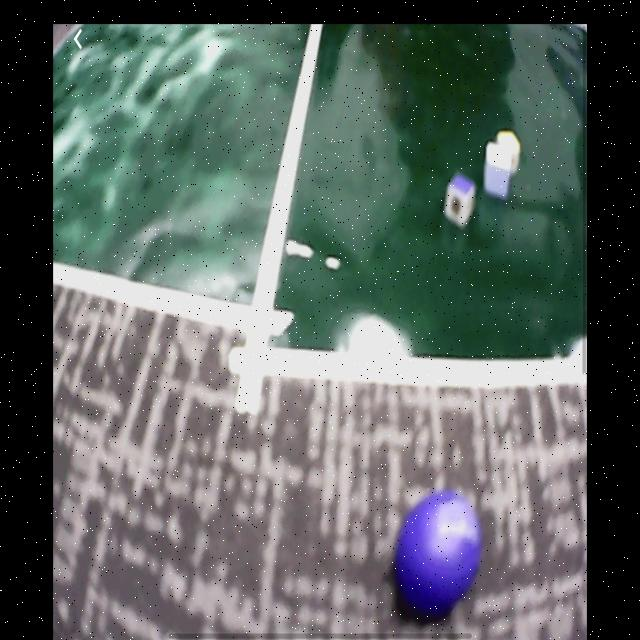ball: (396, 495, 483, 615)
